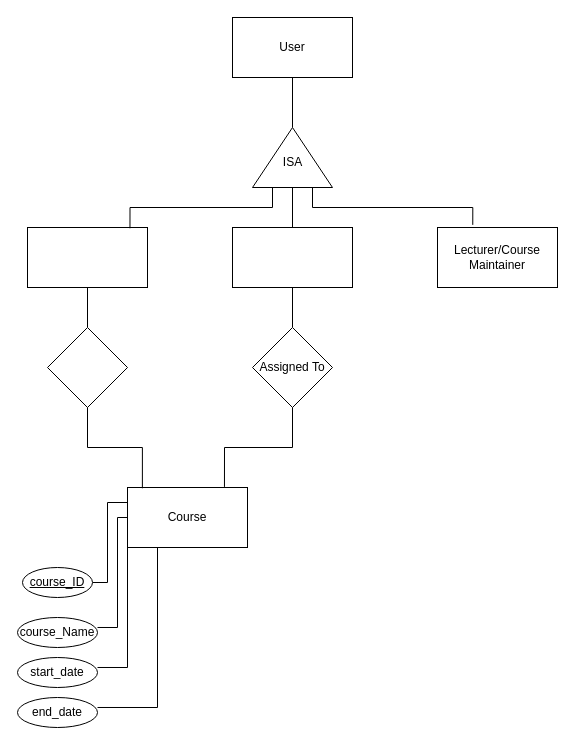
This 575x745 diagram has some shape labels left out. Here are the shapes that lost their labels. From the top down, the centre of each, then its label:
[87,257]: Admin
[292,257]: Student
[87,367]: Creates
